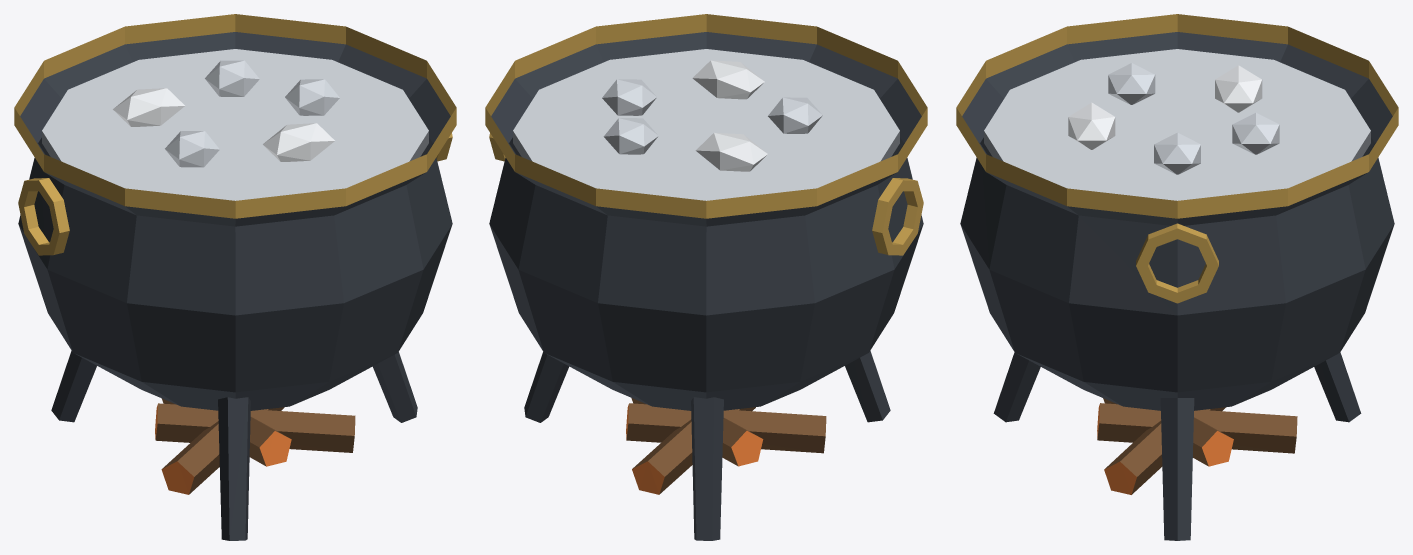
File: Cauldron.obj
3 renders of one model, left to right at view 1: azimuth 30°, elevation 25°; view 2: azimuth 150°, elevation 25°; view 3: azimuth 270°, elevation 25°, orthographic.
Bounding box in the file's own units: 2.3 × 2.01 × 2.24.
